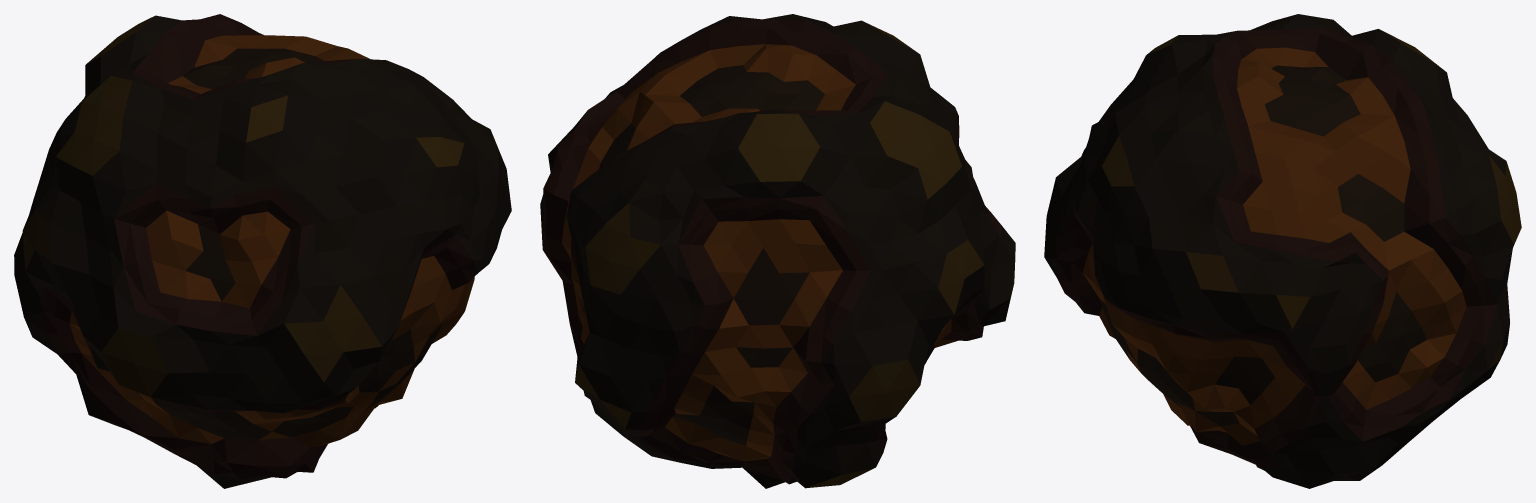
File: Gueristis.obj
3 views of the same model, side by side, from view 1: azimuth 30°, elevation 25°; view 2: azimuth 150°, elevation 25°; view 3: azimuth 270°, elevation 25° (orthographic). The views are drawn at different scales.
Parts seen in each view (by area): view 1: Icosphere; view 2: Icosphere; view 3: Icosphere.
Boxes of the visible parts, left/top/right/bottom form: Icosphere: left=14, top=14, right=511, bottom=488; Icosphere: left=540, top=14, right=1015, bottom=488; Icosphere: left=1044, top=14, right=1521, bottom=488.
Bounding box in the file's own units: 66.13 × 62.92 × 65.93.
